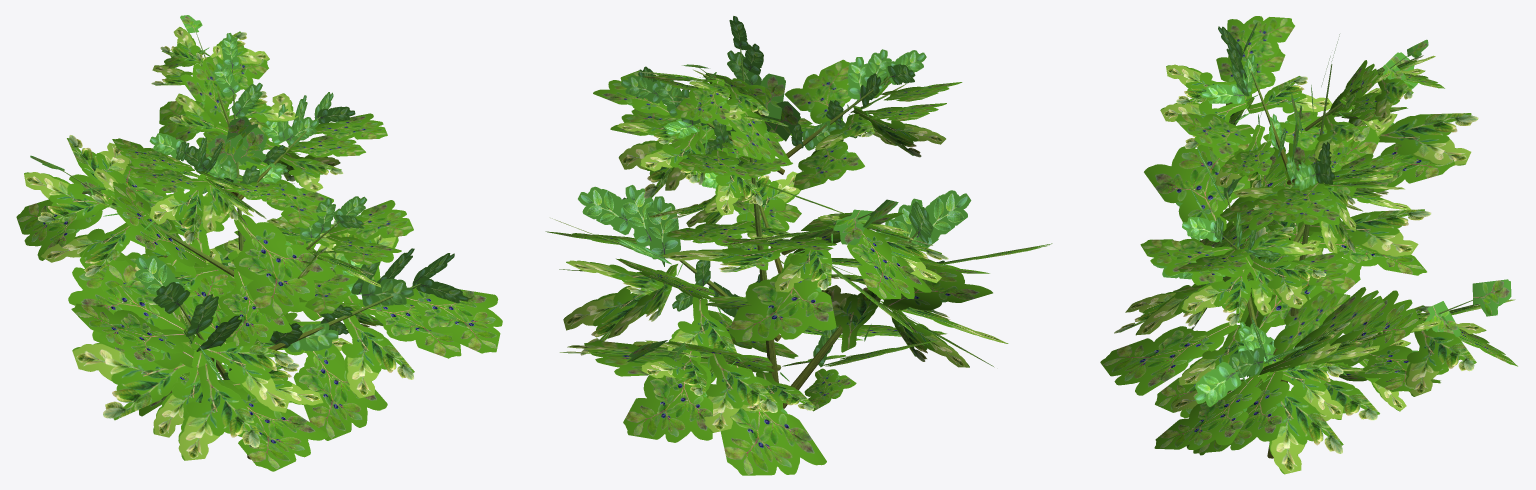
File: Blueberry.glb
The picture shows the model from 3 angles, left to right: view 1: azimuth 30°, elevation 25°; view 2: azimuth 150°, elevation 25°; view 3: azimuth 270°, elevation 25°; orthographic projection. The views are drawn at different scales.
Parts seen in each view (by area): view 1: Blueberry; view 2: Blueberry; view 3: Blueberry.
Boxes of the visible parts, <box> form: Blueberry: <box>16,15,502,471</box>; Blueberry: <box>545,16,1052,475</box>; Blueberry: <box>1100,16,1517,474</box>.
Bounding box in the file's own units: 1.37 × 1.2 × 1.08.
1 material, 1 textured.
